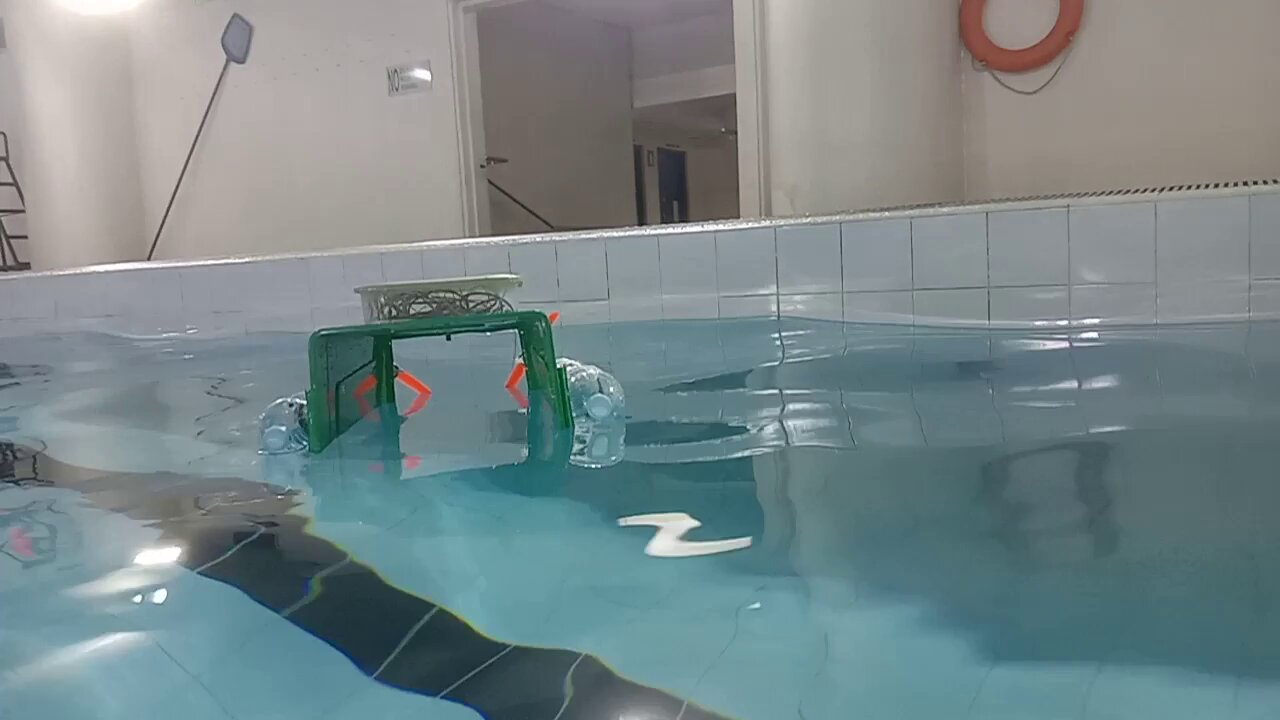drone: (253, 272, 628, 452)
